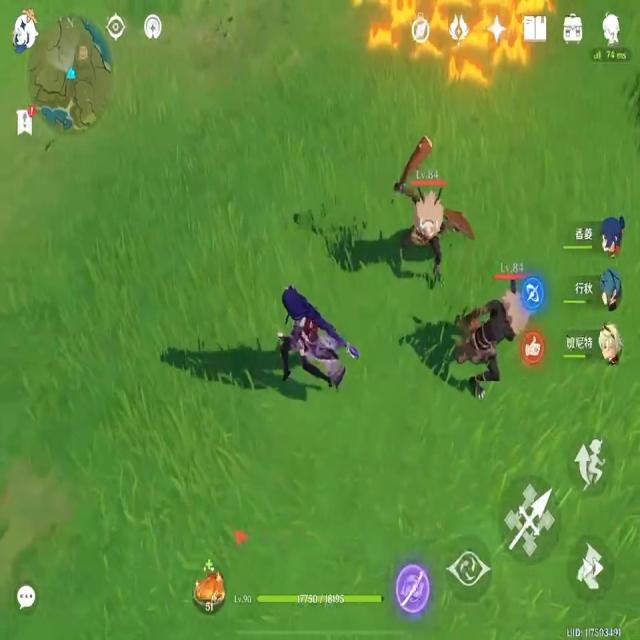genshin-hilichurls: (452, 260, 532, 410), (396, 126, 472, 280)
